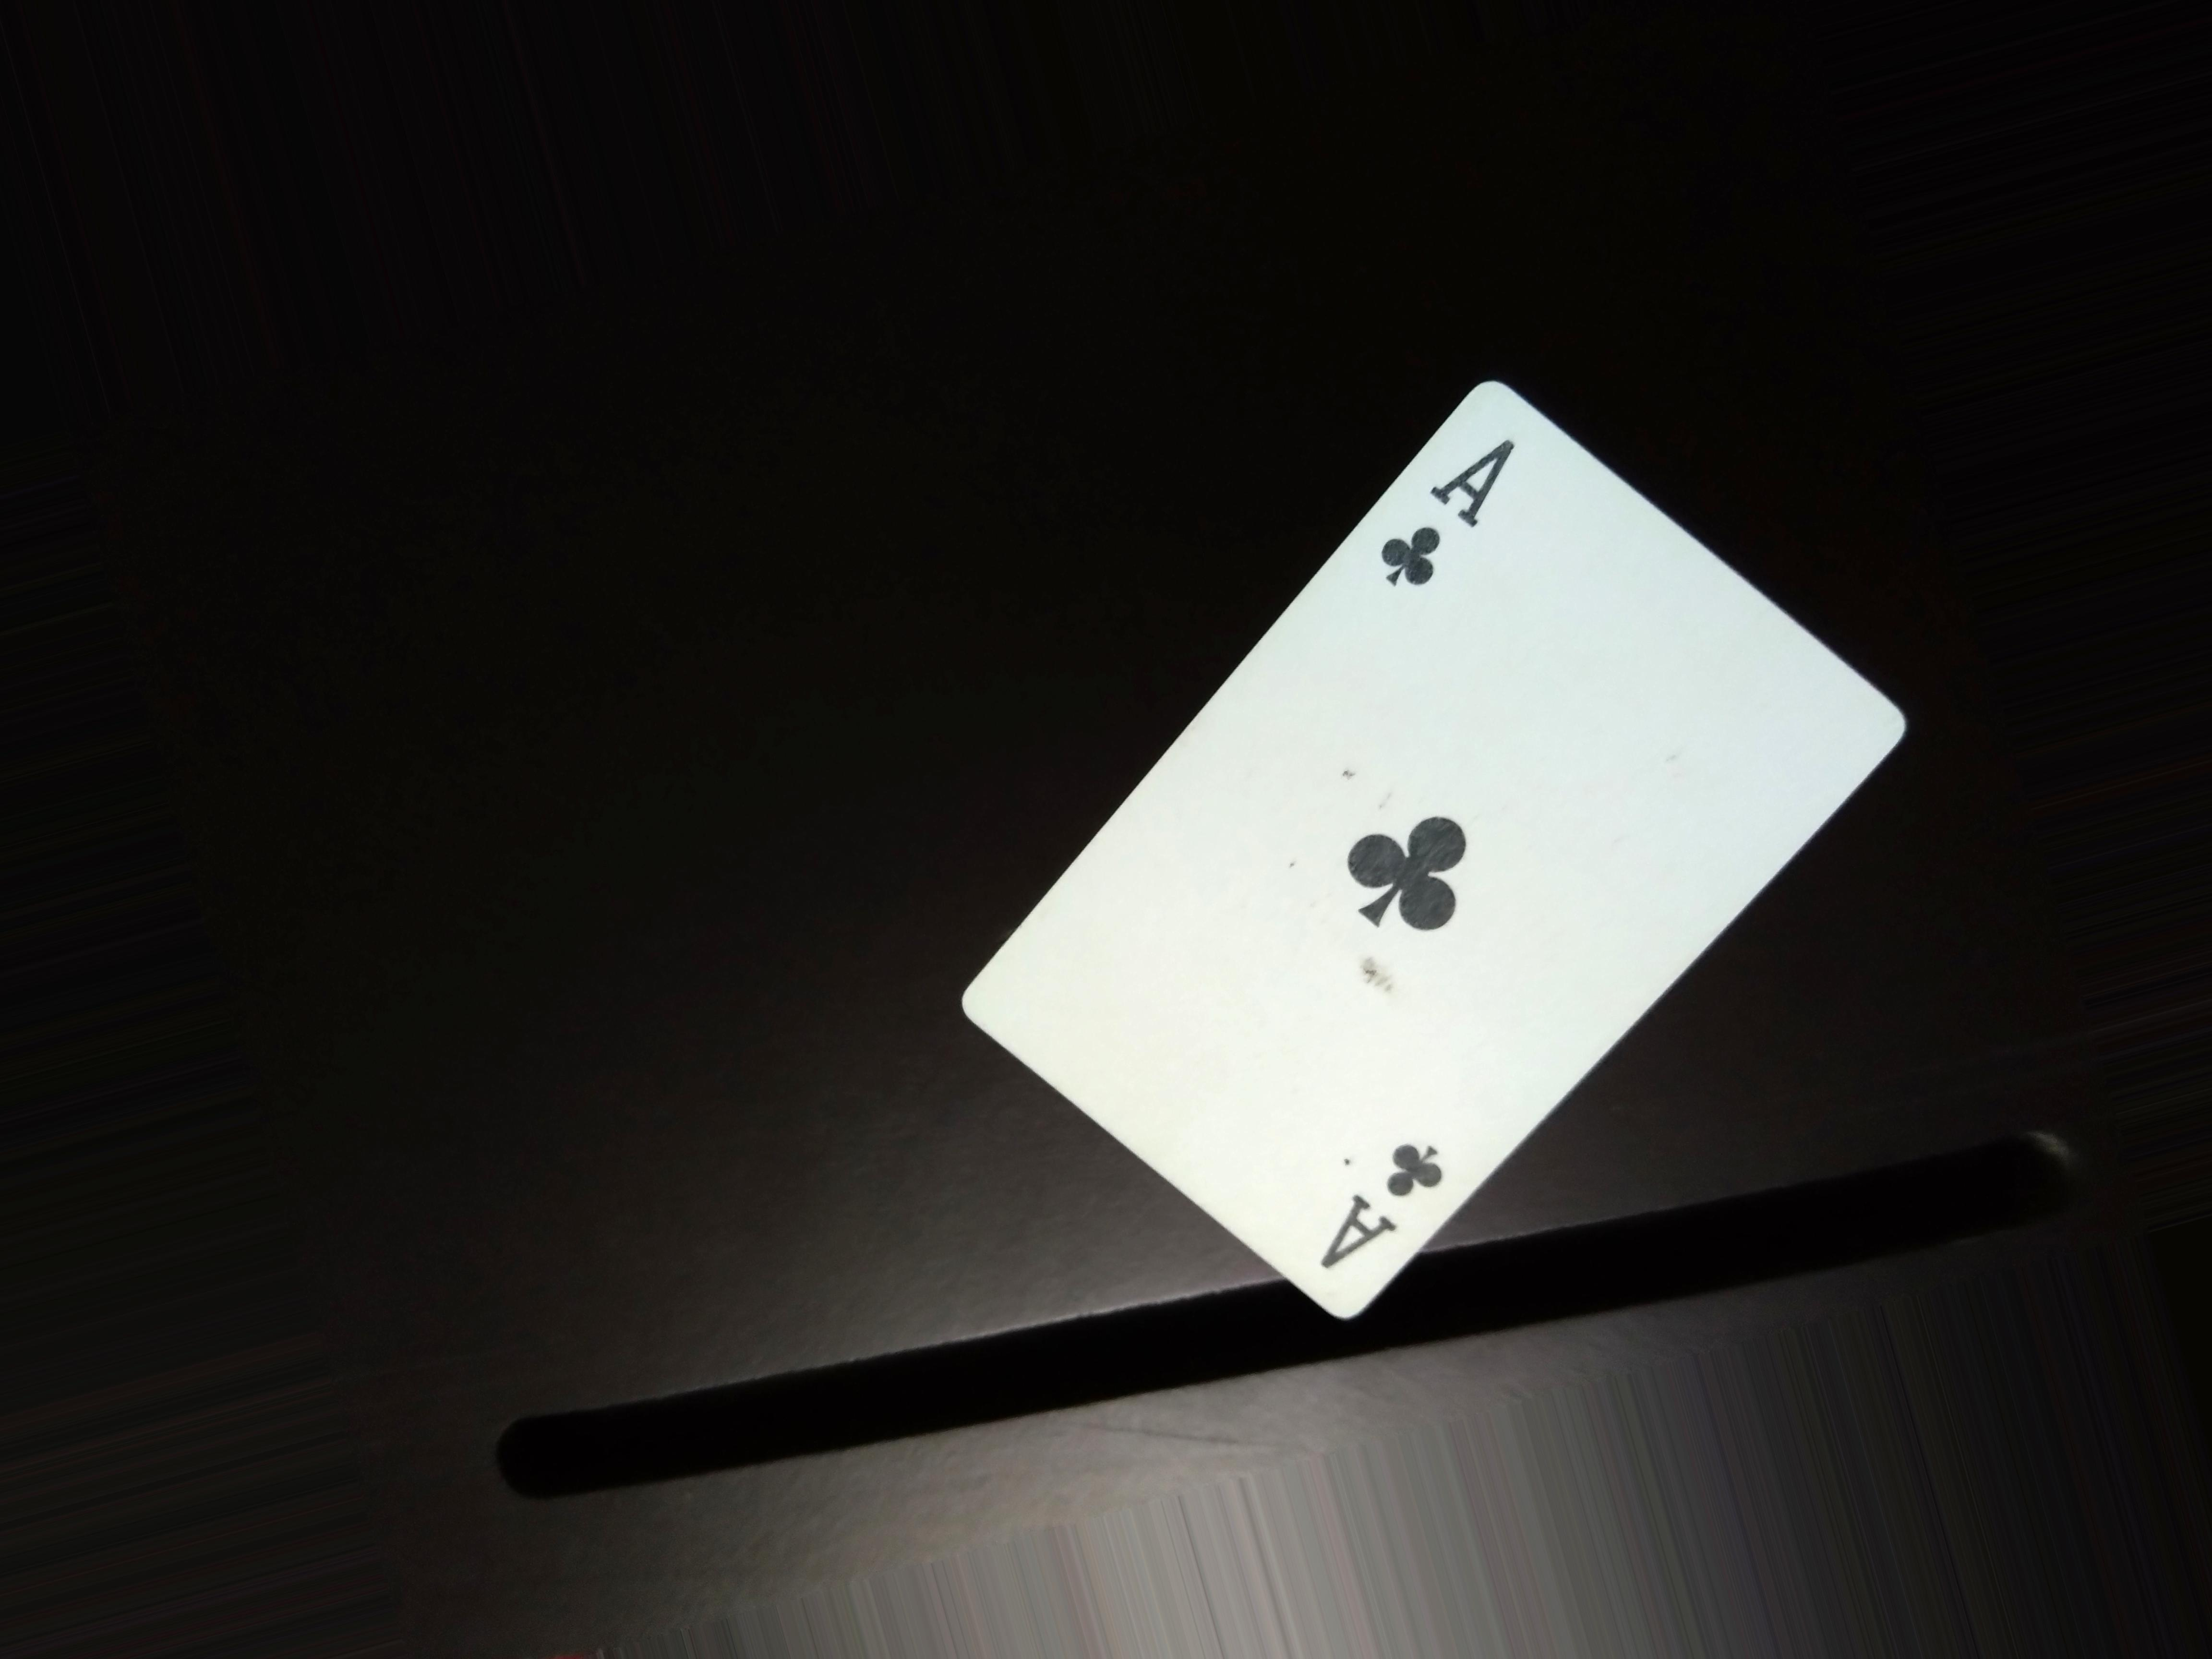AC: (1359, 416, 1526, 612)
